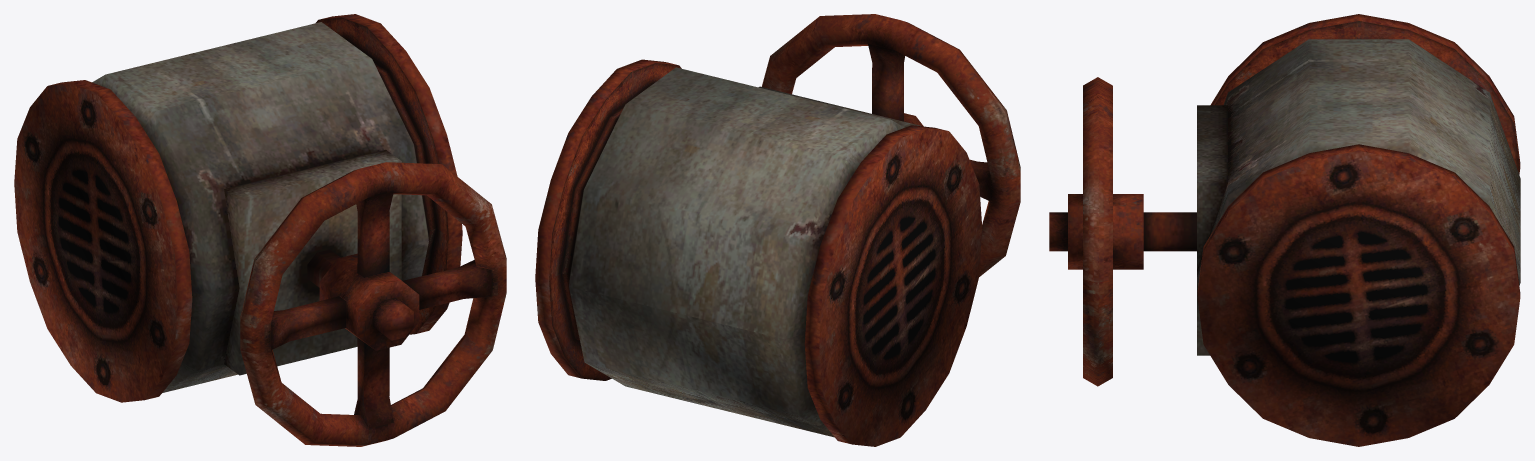
File: valve.dae
3 renders of one model, left to right at view 1: azimuth 30°, elevation 25°; view 2: azimuth 150°, elevation 25°; view 3: azimuth 270°, elevation 25°, orthographic.
Visible parts, largest first — view 1: pCylinder21, polySurface726; view 2: pCylinder21, polySurface726; view 3: pCylinder21, polySurface726.
Part boxes in pixels (<box>): pCylinder21: <box>14,14,462,402</box>; polySurface726: <box>240,162,506,446</box>; pCylinder21: <box>535,59,982,446</box>; polySurface726: <box>761,14,1020,276</box>; pCylinder21: <box>1197,14,1520,446</box>; polySurface726: <box>1049,77,1196,386</box>.
Bounding box in the file's own units: 0.5005 × 0.5044 × 0.728.
